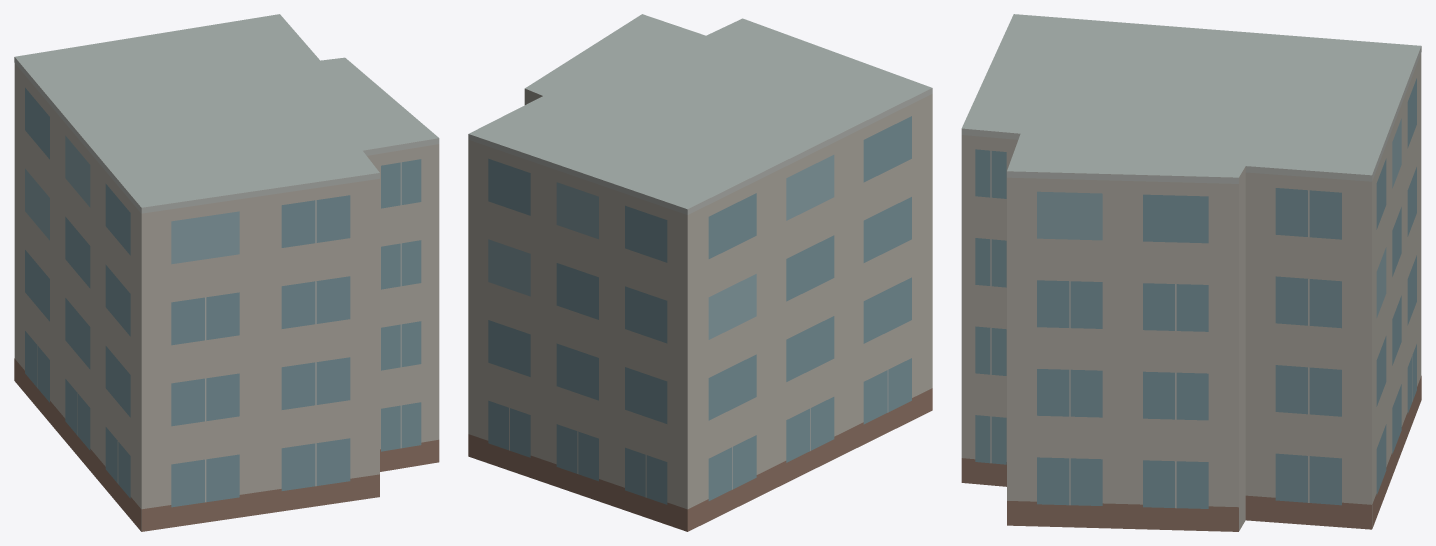
Rendered from survey-upis-32468235.glb.
3 views of the same model, side by side, from view 1: azimuth 30°, elevation 25°; view 2: azimuth 150°, elevation 25°; view 3: azimuth 270°, elevation 25° (orthographic). The views are drawn at different scales.
Visible parts, largest first — view 1: survey-upis-32468235.tmp; view 2: survey-upis-32468235.tmp; view 3: survey-upis-32468235.tmp.
Boxes of the visible parts, <box> form: survey-upis-32468235.tmp: <box>14,14,439,531</box>; survey-upis-32468235.tmp: <box>468,14,932,531</box>; survey-upis-32468235.tmp: <box>961,14,1421,531</box>.
Bounding box in the file's own units: 13.36 × 13.48 × 15.87.
